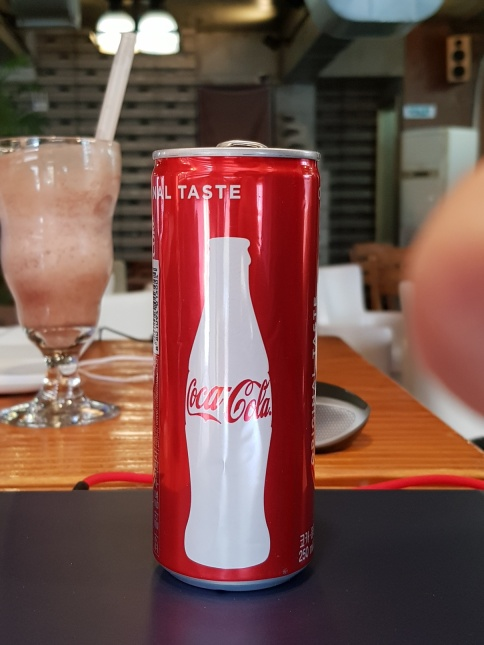Can: (144, 136, 321, 592)
